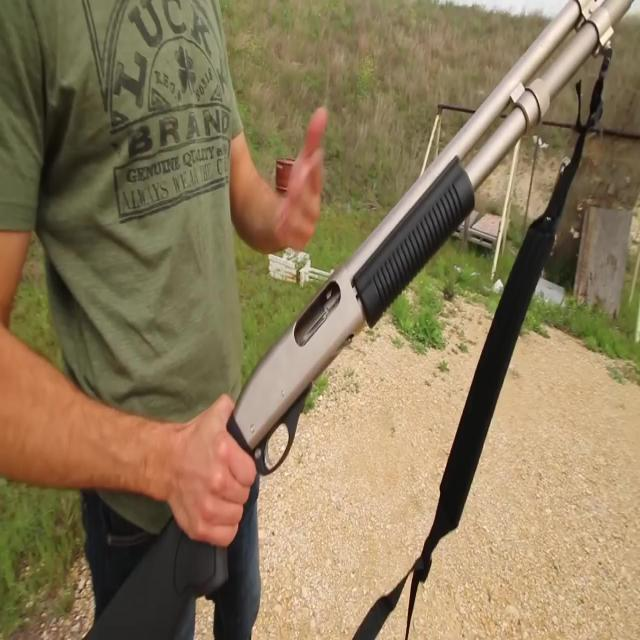Weapon: (84, 1, 624, 640)
